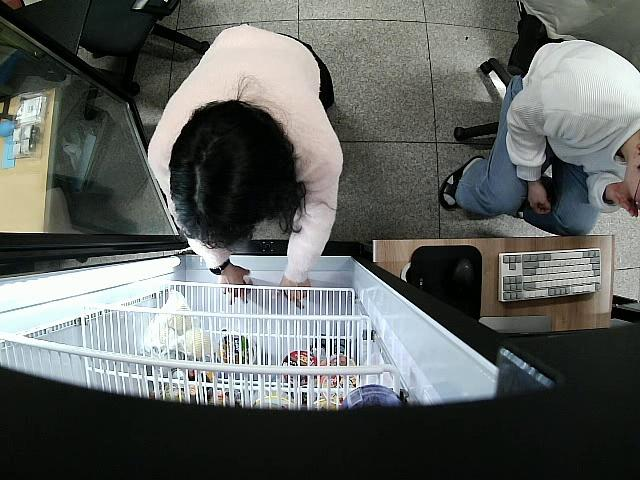00_hand: (219, 266, 253, 305), (278, 276, 313, 311)
